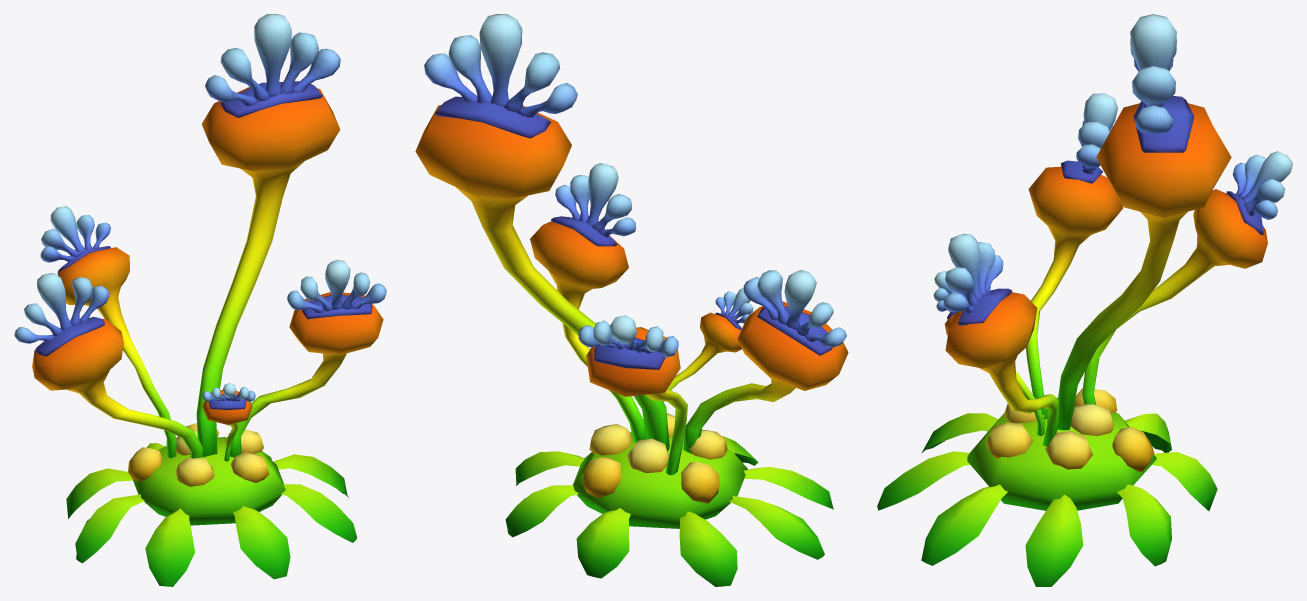
The model's file is wp_noPot_15.fbx.
The picture shows the model from 3 angles, left to right: view 1: azimuth 30°, elevation 25°; view 2: azimuth 150°, elevation 25°; view 3: azimuth 270°, elevation 25°; orthographic projection. The views are drawn at different scales.
Visible parts, largest first — view 1: w_pl15.003; view 2: w_pl15.003; view 3: w_pl15.003.
Boxes of the visible parts, x1=… form: w_pl15.003: x1=14, y1=14, x2=386, y2=586; w_pl15.003: x1=415, y1=14, x2=848, y2=586; w_pl15.003: x1=877, y1=14, x2=1292, y2=586.
Bounding box in the file's own units: 99.03 × 124 × 84.37.
